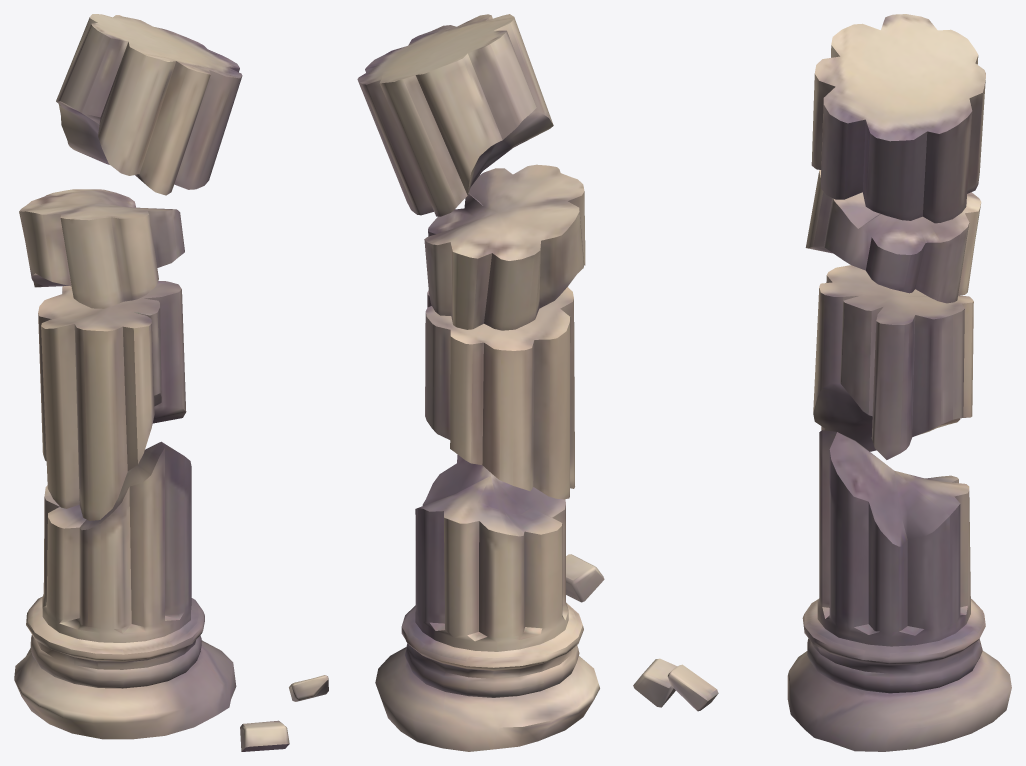
Rendered from SM_RuinColumn_01.fbx.
3 views of the same model, side by side, from view 1: azimuth 30°, elevation 25°; view 2: azimuth 150°, elevation 25°; view 3: azimuth 270°, elevation 25° (orthographic). The views are drawn at different scales.
Parts seen in each view (by area): view 1: SM_RuinColumn_01; view 2: SM_RuinColumn_01; view 3: SM_RuinColumn_01.
Boxes of the visible parts, x1,y1,x2,y2 form: SM_RuinColumn_01: (14,14,328,751); SM_RuinColumn_01: (357,14,604,751); SM_RuinColumn_01: (633,14,1011,751).
Bounding box in the file's own units: 29.26 × 89.21 × 45.03.
1 material, 1 textured.
